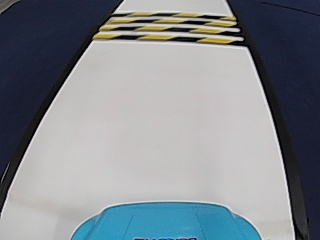bump: (112, 11, 225, 46)
